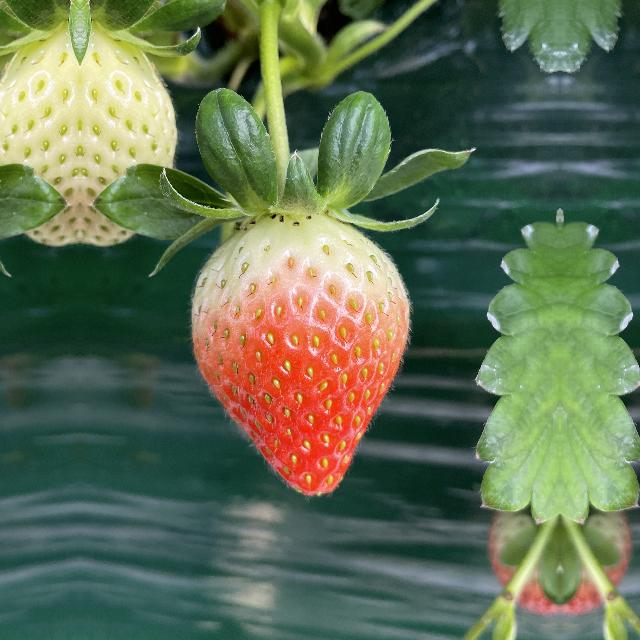Health_100: (180, 206, 412, 504)
Health_25: (80, 0, 178, 250), (0, 0, 79, 250)
